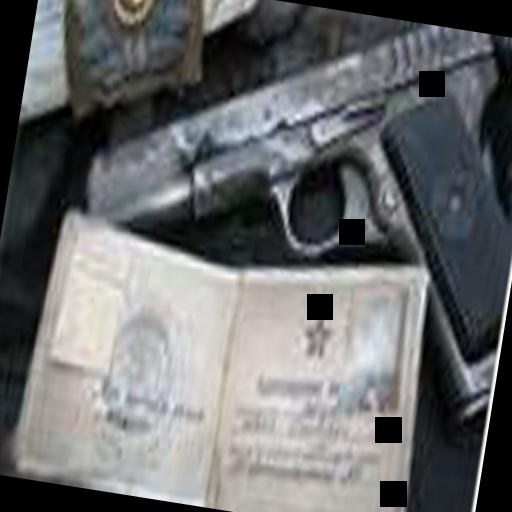Handgun: (48, 0, 512, 438)
